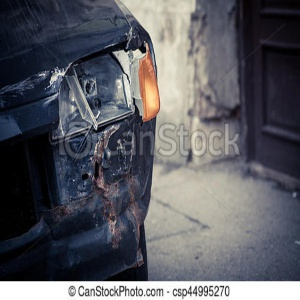bumper: (52, 197, 150, 271)
tail_lights: (49, 42, 160, 134)
